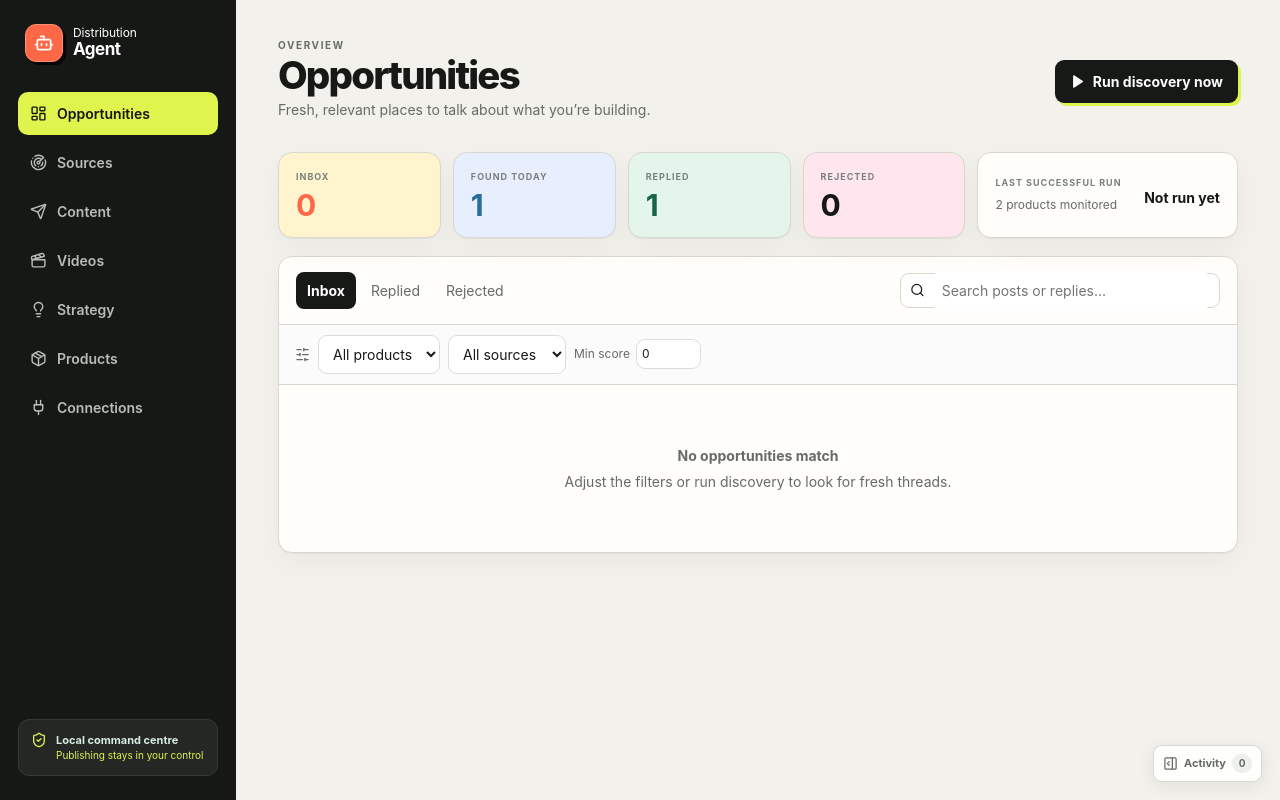
Test: dashboard UI › uses Replied consistently for published replies
The image size is (1280, 800).
Step 1. Click the button "Replied" → (395, 290), box [360,272,431,309]
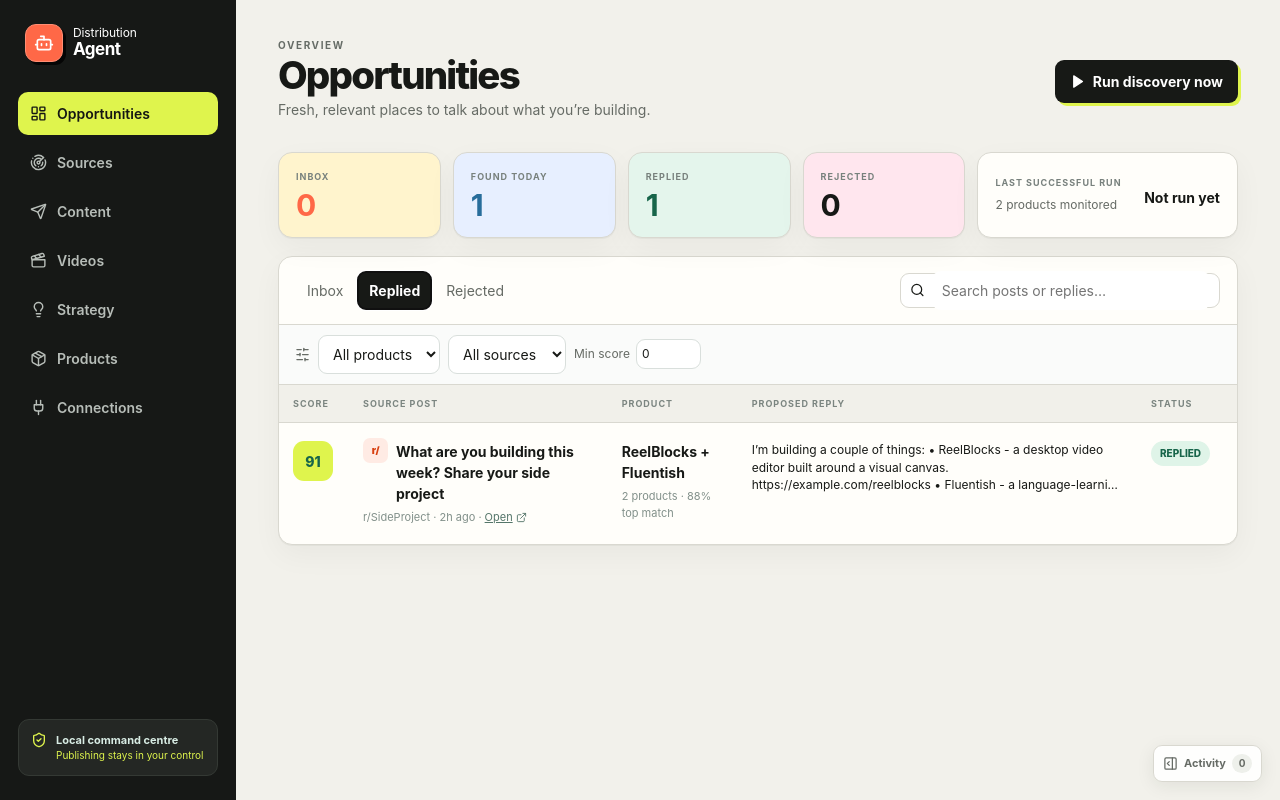
Check: the text "replied" is shown, box [1151,441,1210,466]
